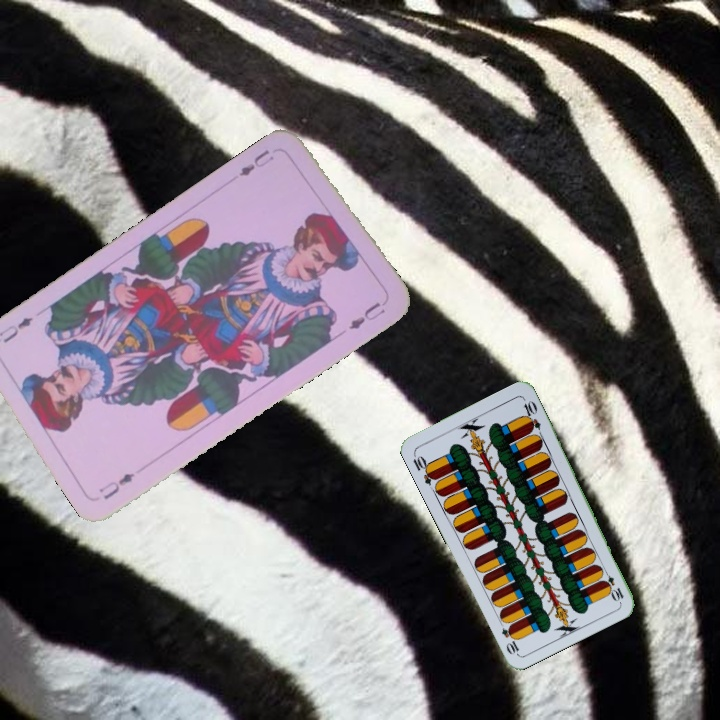E10: (409, 450, 439, 488), (598, 565, 626, 604)
EU: (94, 468, 138, 502), (235, 145, 277, 179)
